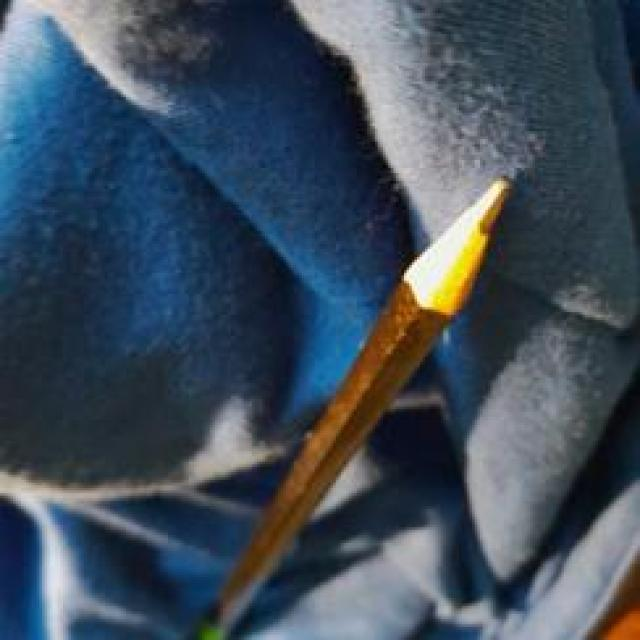pencil: (186, 133, 544, 637)
